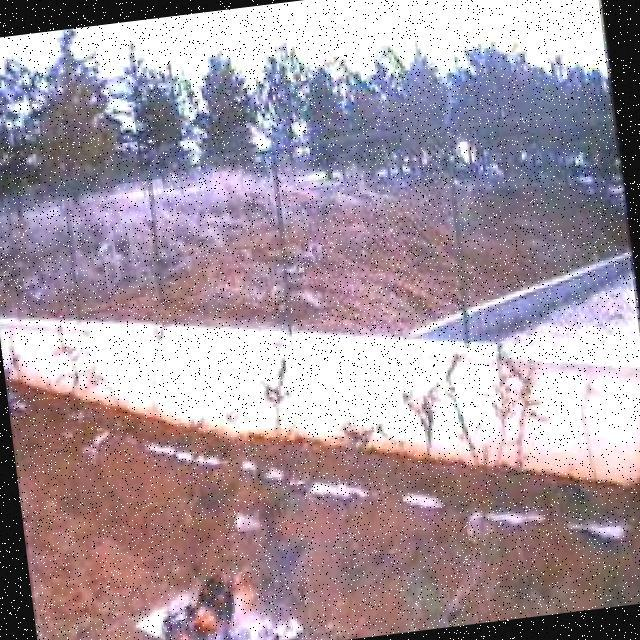Fire: (142, 558, 269, 640)
